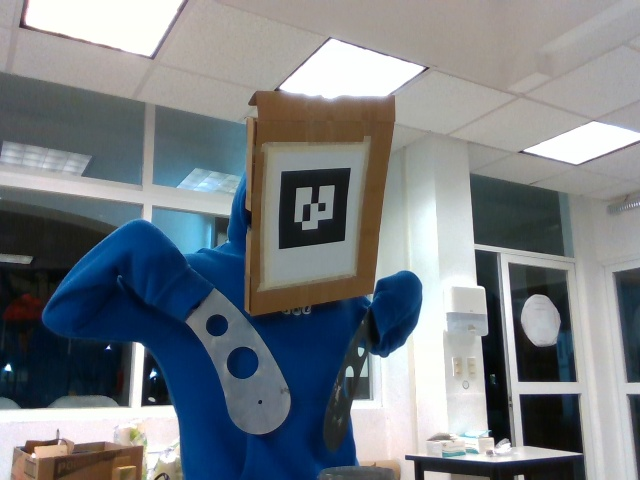ar3: (277, 166, 360, 249)
